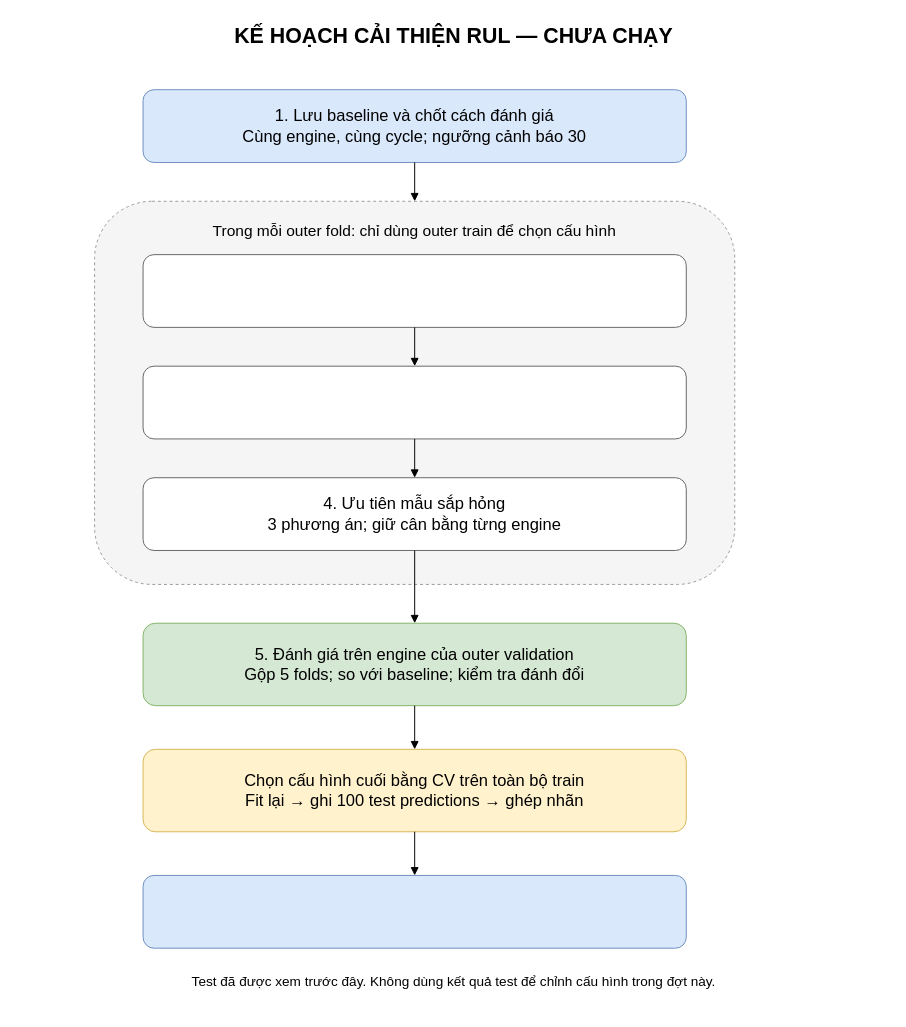
Image size: 906x1027. Some labels were removed from this diagram. The shapes that lost their labels are listed below. From the top down, each one's box as (x1, y1, x2, y2) in pixels, then its label:
(142, 254, 686, 327): 2. So sánh window 10 / 20 / 30 Cùng khóa đánh giá từ cycle 30
(142, 365, 686, 439): 3. Chỉnh tham số mô hình 24 cấu hình, chọn bằng inner CV
(142, 874, 686, 948): 6. Cập nhật báo cáo và bằng chứng Tách kết quả trajectory và test endpoint
